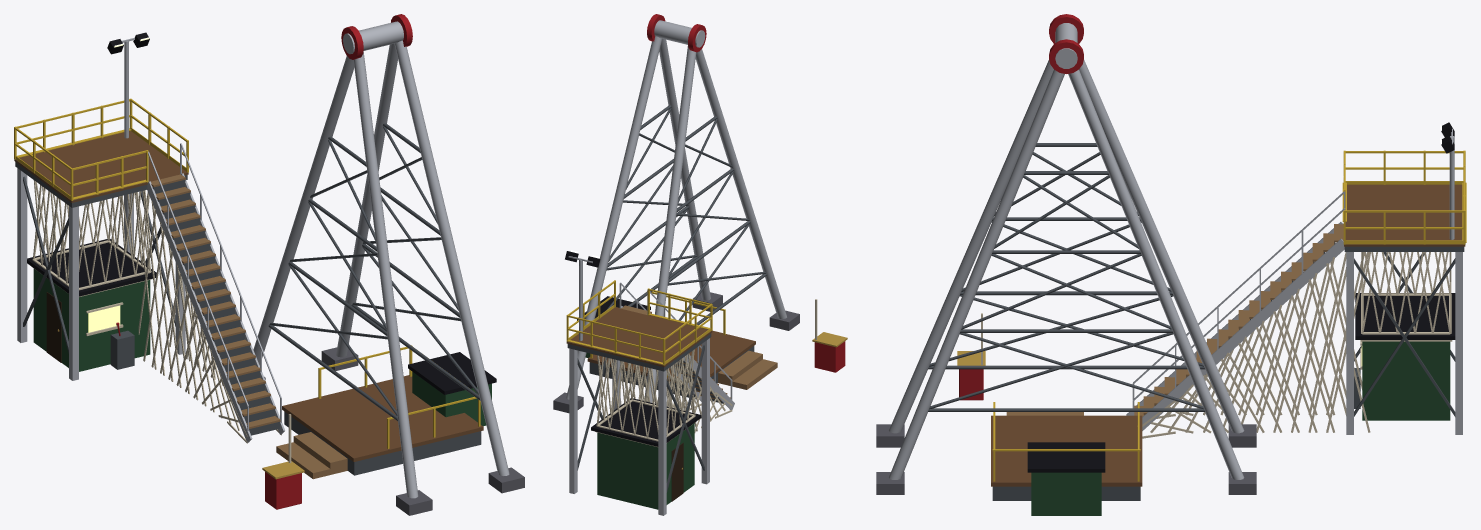
File: hg-wheelbase.glb
3 views of the same model, side by side, from view 1: azimuth 30°, elevation 25°; view 2: azimuth 150°, elevation 25°; view 3: azimuth 270°, elevation 25° (orthographic). The views are drawn at different scales.
Visible parts, largest first — view 1: hg-wheelbase; view 2: hg-wheelbase; view 3: hg-wheelbase.
Boxes of the visible parts, box(x1,y1,x2,y2) form: hg-wheelbase: box(14, 14, 524, 515); hg-wheelbase: box(553, 14, 847, 515); hg-wheelbase: box(876, 14, 1466, 515).
Size of the model in its own units: 9.53 by 13.93 by 16.76.
